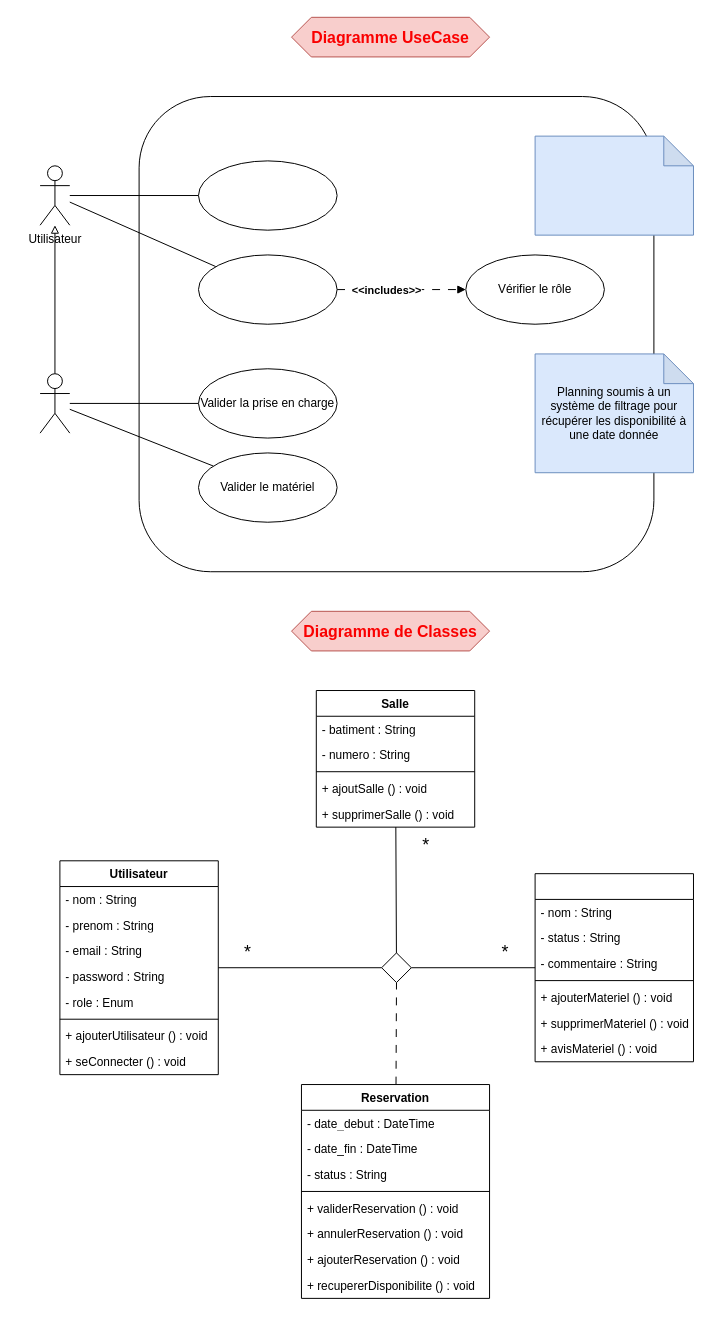
The diagram is 711 pixels wide and 1319 high, and some of its shapes have lost their labels. The box of each missing label's shape, as (x1, y1, x2, y2) in pixels:
Administrateur: (39, 373, 70, 433)
Gérer la réservation: (198, 254, 337, 324)
Système soumis à l'authentification: (534, 135, 693, 235)
Videoprojecteur: (534, 873, 693, 1062)
Voir Planning: (198, 160, 337, 230)
